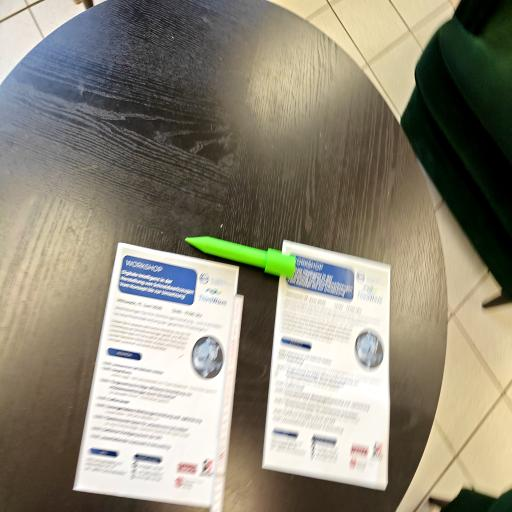Probe-Detection: (185, 236, 296, 278)
